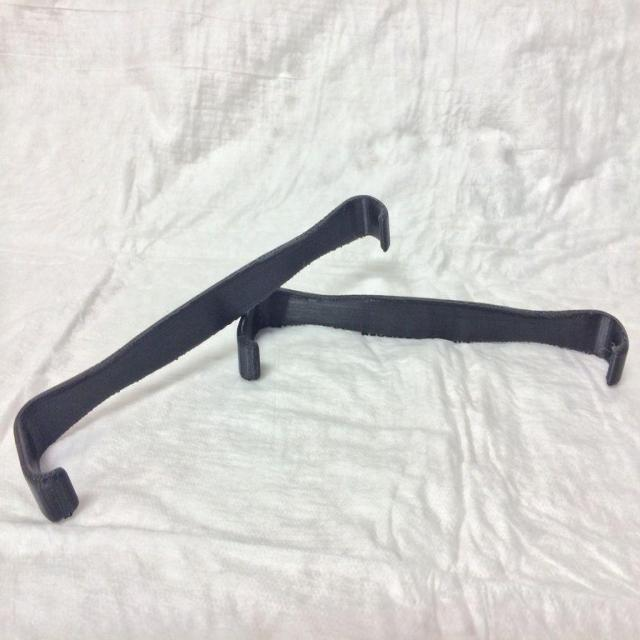Army_navy: (9, 189, 390, 529), (233, 284, 628, 390)
